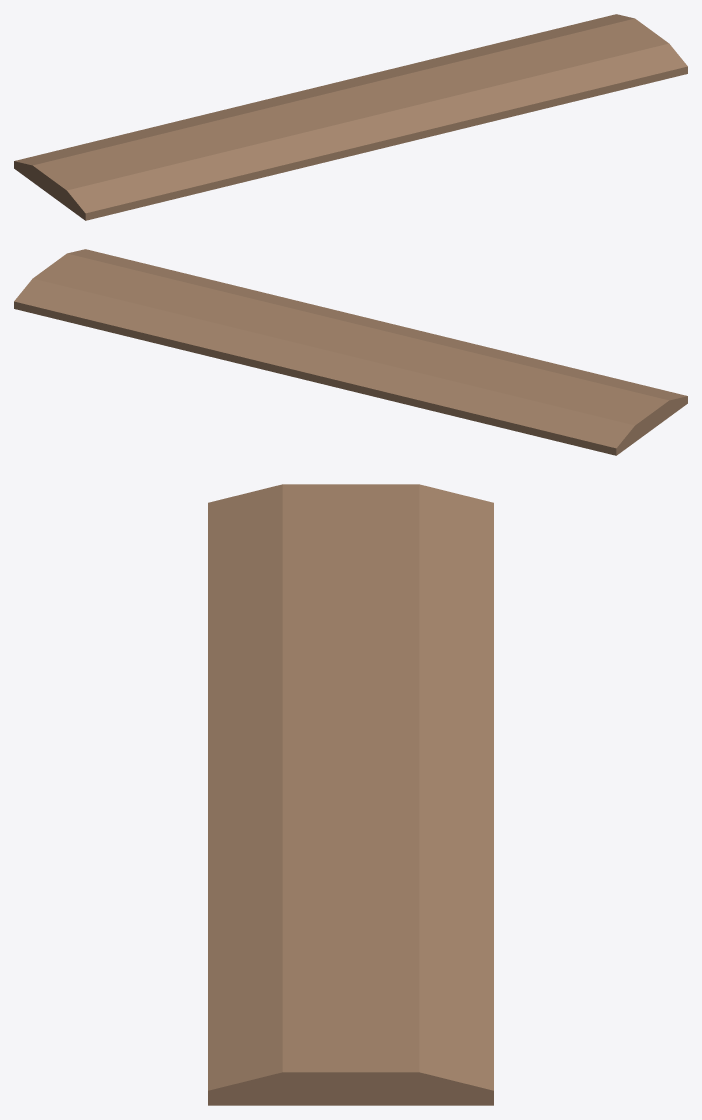
File: ruler.fbx
3 views of the same model, one above another, from view 1: azimuth 30°, elevation 25°; view 2: azimuth 150°, elevation 25°; view 3: azimuth 270°, elevation 25° (orthographic). The views are drawn at different scales.
Parts seen in each view (by area): view 1: ruler; view 2: ruler; view 3: ruler.
Boxes of the visible parts, x1,y1,x2,y2 form: ruler: (14,14,687,220); ruler: (14,249,687,455); ruler: (208,484,493,1105).
Size of the model in its own units: 35 by 0.9258 by 7.2.
